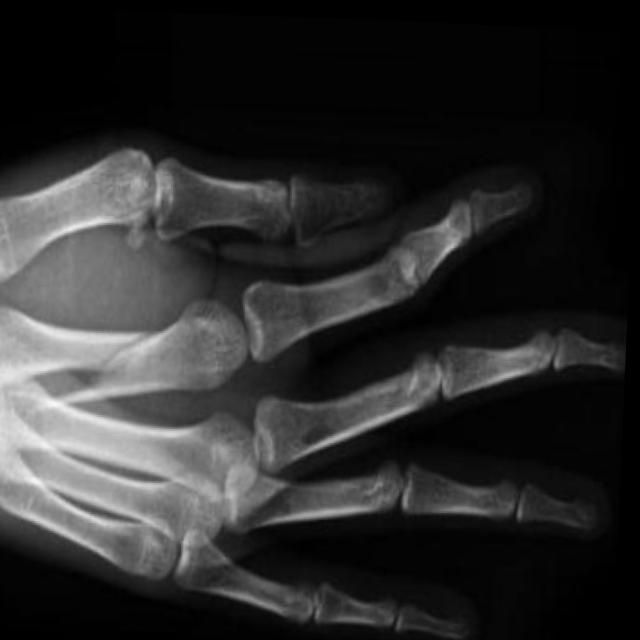fracture: (103, 304, 162, 380)
